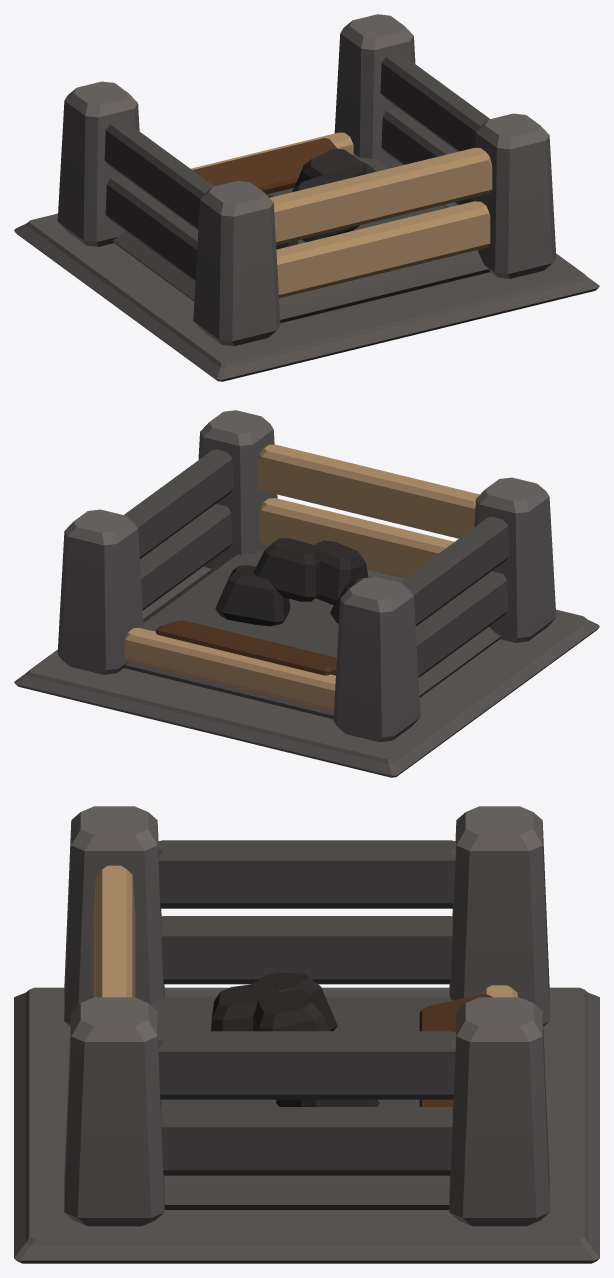
The model's file is charcoal_crate.glb.
3 views of the same model, one above another, from view 1: azimuth 30°, elevation 25°; view 2: azimuth 150°, elevation 25°; view 3: azimuth 270°, elevation 25° (orthographic). The views are drawn at different scales.
Visible parts, largest first — view 1: CharcoalCrate_Static; view 2: CharcoalCrate_Static; view 3: CharcoalCrate_Static.
Boxes of the visible parts, bbox=[...] form: CharcoalCrate_Static: bbox=[14, 14, 599, 381]; CharcoalCrate_Static: bbox=[14, 410, 599, 777]; CharcoalCrate_Static: bbox=[14, 806, 599, 1263].
Bounding box in the file's own units: 1.5 × 0.57 × 1.4.
